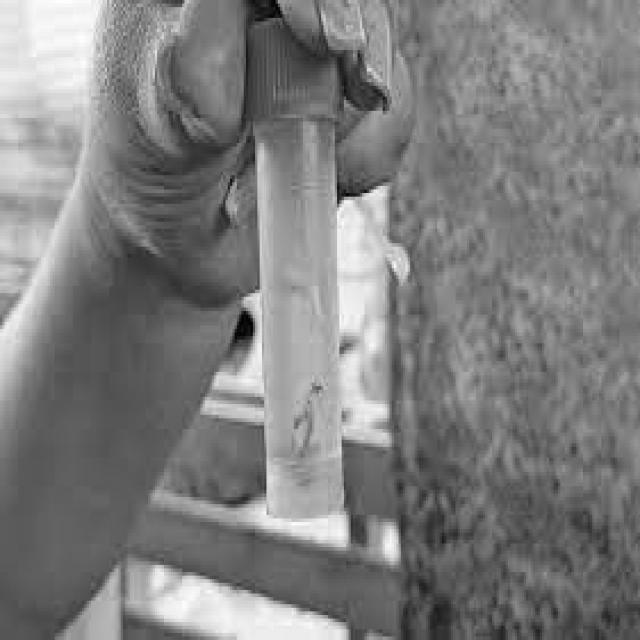larvas: (293, 380, 318, 423), (300, 418, 314, 456)
